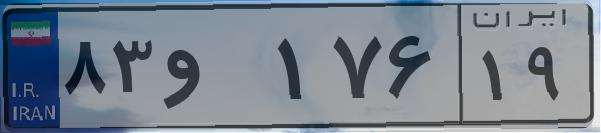1: (270, 28, 330, 110), (475, 38, 525, 113)
3: (110, 28, 158, 98)
6: (385, 28, 445, 110)
7: (330, 28, 385, 110)
8: (57, 26, 110, 100)
9: (525, 38, 570, 115)
و: (158, 20, 270, 120)
